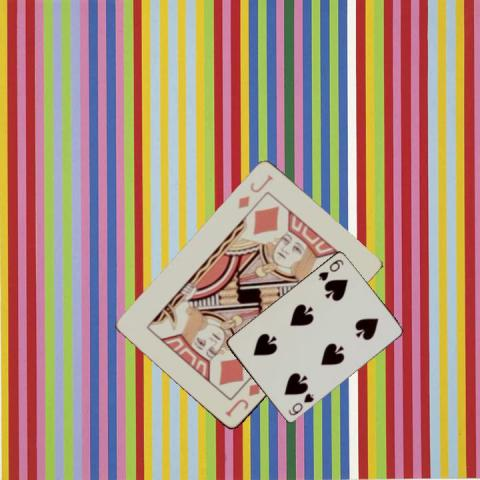6s: (286, 391, 316, 417), (315, 256, 345, 282)
Jd: (234, 172, 274, 211), (221, 381, 262, 419)
